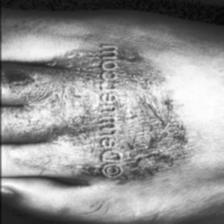Non-Cancerous Skin Condition: (3, 36, 176, 182)
